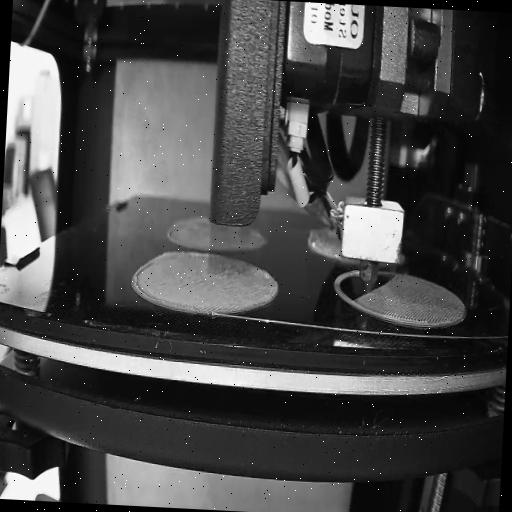over_extrusion: (129, 252, 154, 304)
